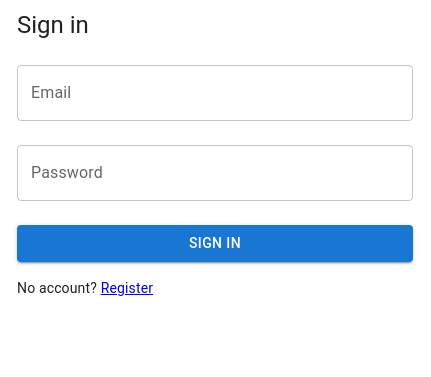
Test case: Login › shows the server-provided message when the login request fails
Type "user@example.com" into the field labelled "Email" at (215, 93), box [17,65,413,121]
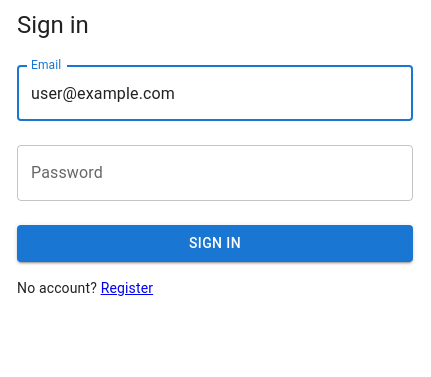
Type "wrong-password" into the password field labelled "Password" at (215, 173), box [17,145,413,201]
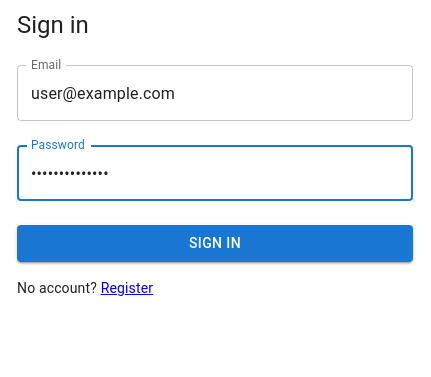
Click the button "Sign in" at (215, 244), box [17,225,413,262]
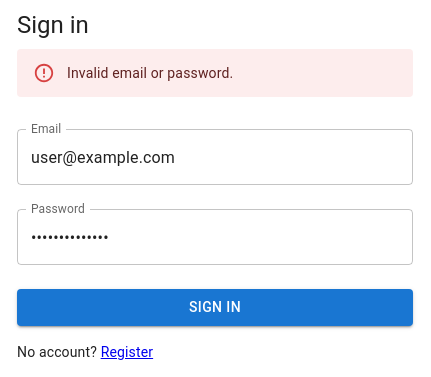
Now the message reads "Invalid email or password.", box [67,65,233,81]
